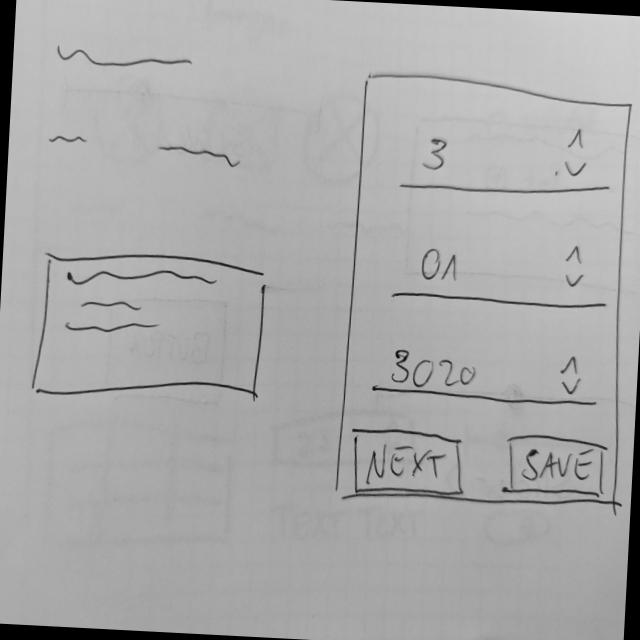button: (348, 425, 467, 500), (502, 431, 608, 498)
container: (330, 66, 640, 516)
number-input: (394, 114, 616, 206), (389, 229, 611, 312), (370, 337, 601, 411)
text: (49, 38, 198, 78), (153, 142, 244, 174), (46, 126, 93, 150)
textbox: (29, 247, 270, 410)
